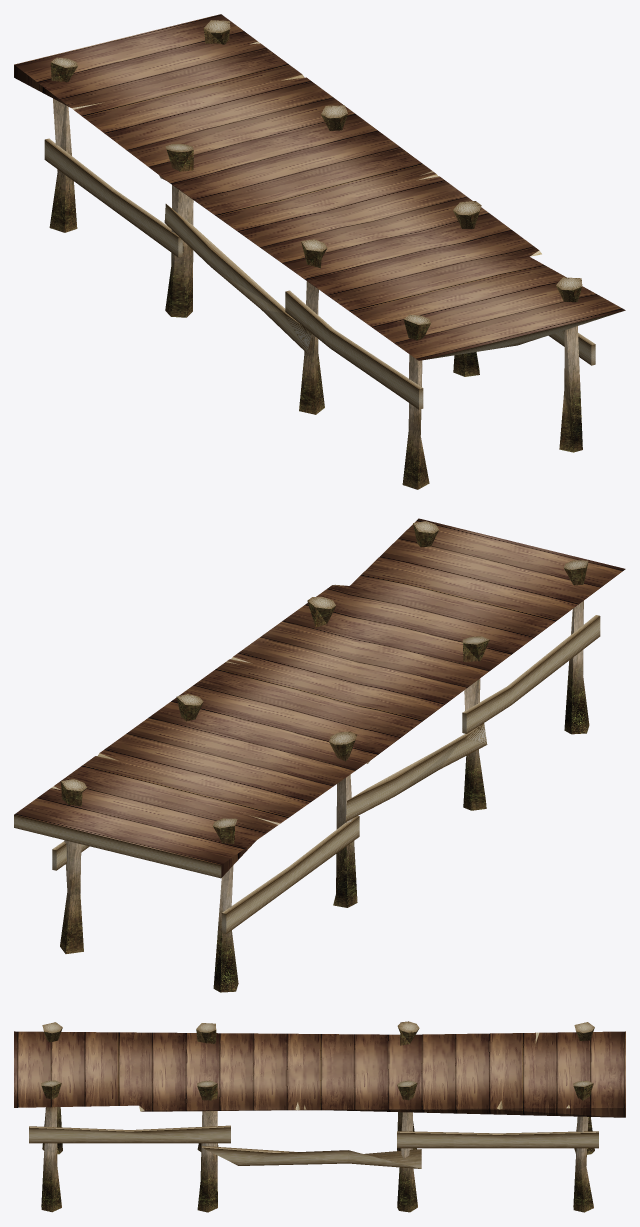
File: p2_platform2_I_LOD1.fbx
3 renders of one model, top to bottom at view 1: azimuth 30°, elevation 25°; view 2: azimuth 150°, elevation 25°; view 3: azimuth 270°, elevation 25°, orthographic. The views are drawn at different scales.
Parts seen in each view (by area): view 1: polymsh; view 2: polymsh; view 3: polymsh.
Part boxes in pixels (x1,y1,x2,y2): polymsh: [14, 14, 625, 489]; polymsh: [14, 518, 625, 992]; polymsh: [14, 1021, 625, 1212].
Bounding box in the file's own units: 100 × 76.51 × 338.
